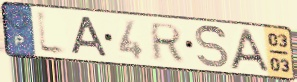4: (117, 19, 146, 62)
A: (228, 27, 273, 74), (70, 15, 111, 59)
L: (35, 8, 71, 59)
R: (150, 21, 185, 63)
S: (193, 23, 231, 70)
